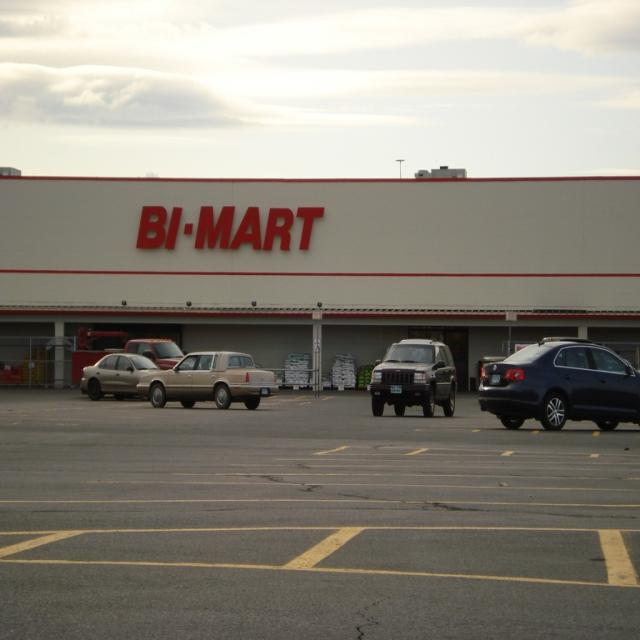car: (136, 350, 278, 409), (367, 337, 456, 417)
